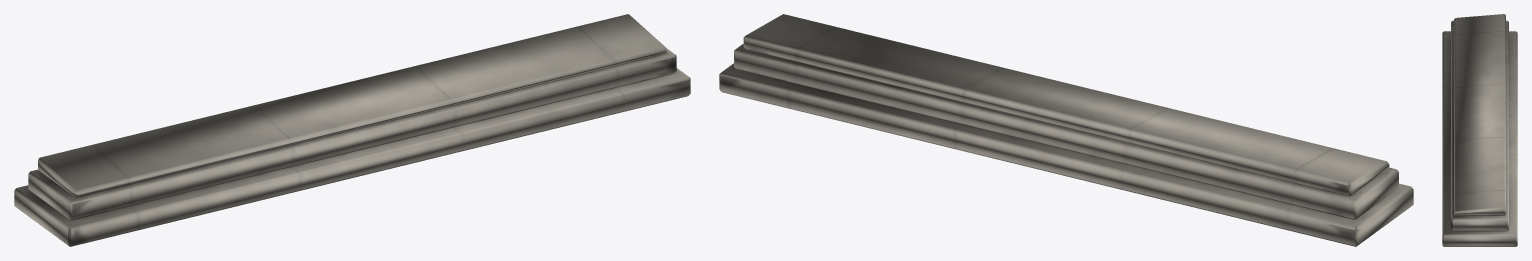
The model's file is Prop_MuroRemate.fbx.
The picture shows the model from 3 angles, left to right: view 1: azimuth 30°, elevation 25°; view 2: azimuth 150°, elevation 25°; view 3: azimuth 270°, elevation 25°; orthographic projection. The views are drawn at different scales.
Parts seen in each view (by area): view 1: Prop_MuroRemate; view 2: Prop_MuroRemate; view 3: Prop_MuroRemate.
Part boxes in pixels (x1,y1,x2,y2): Prop_MuroRemate: [14, 14, 690, 246]; Prop_MuroRemate: [719, 14, 1413, 246]; Prop_MuroRemate: [1442, 14, 1517, 246].
Size of the model in its own units: 8.3 by 0.6723 by 1.3.
